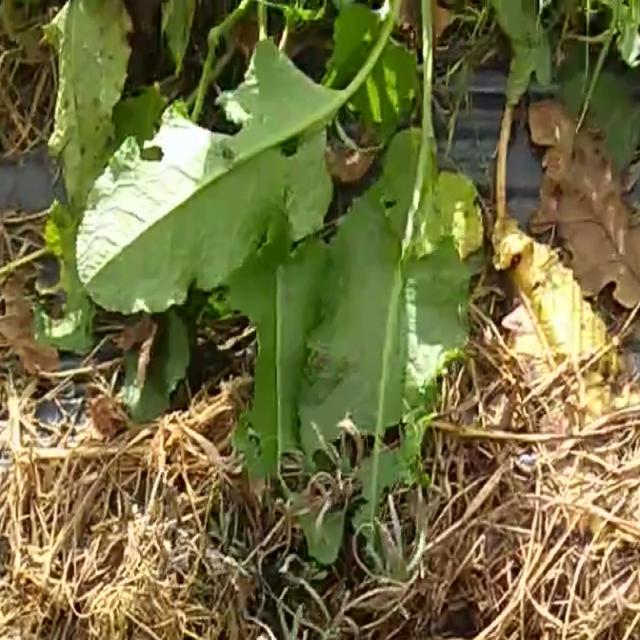organic waste: (46, 0, 530, 517)
